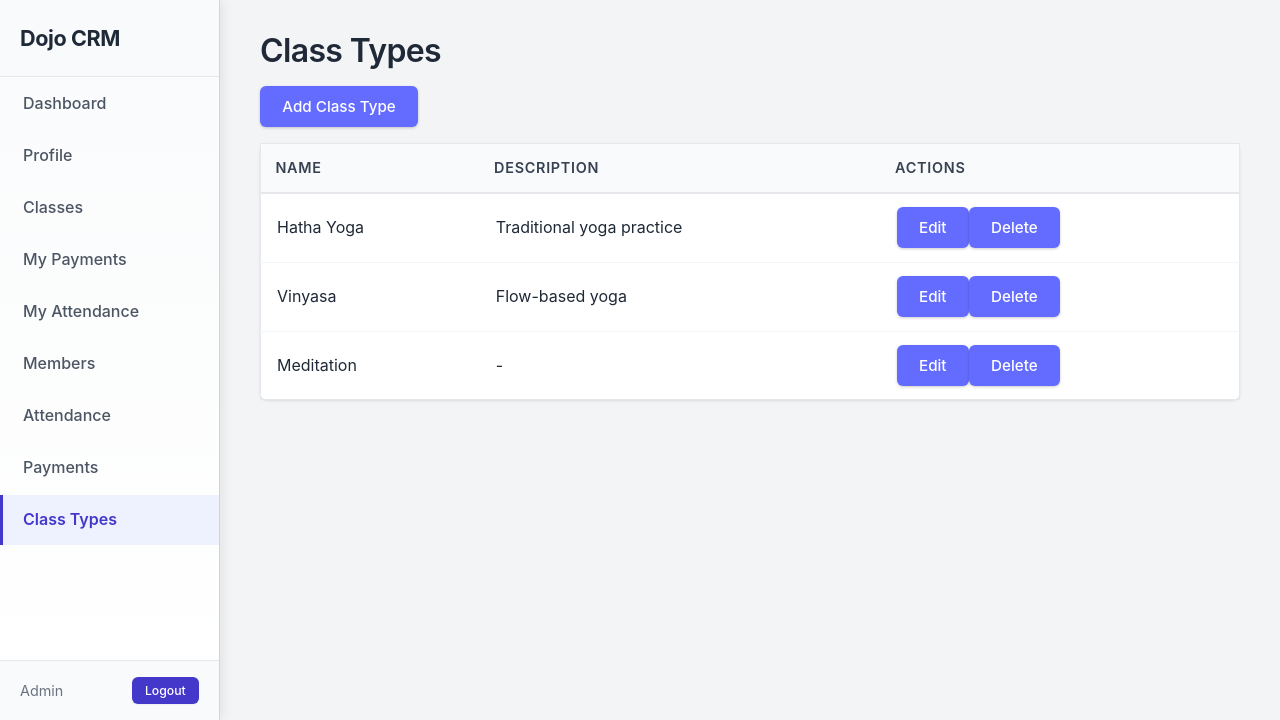
ClassTypes › creates a new class type
The image size is (1280, 720).
Check: the text "Hatha Yoga" is shown, box [260,193,480,262]
Click the button "Add Class Type": coordinates (339, 107) [260,86,418,127]
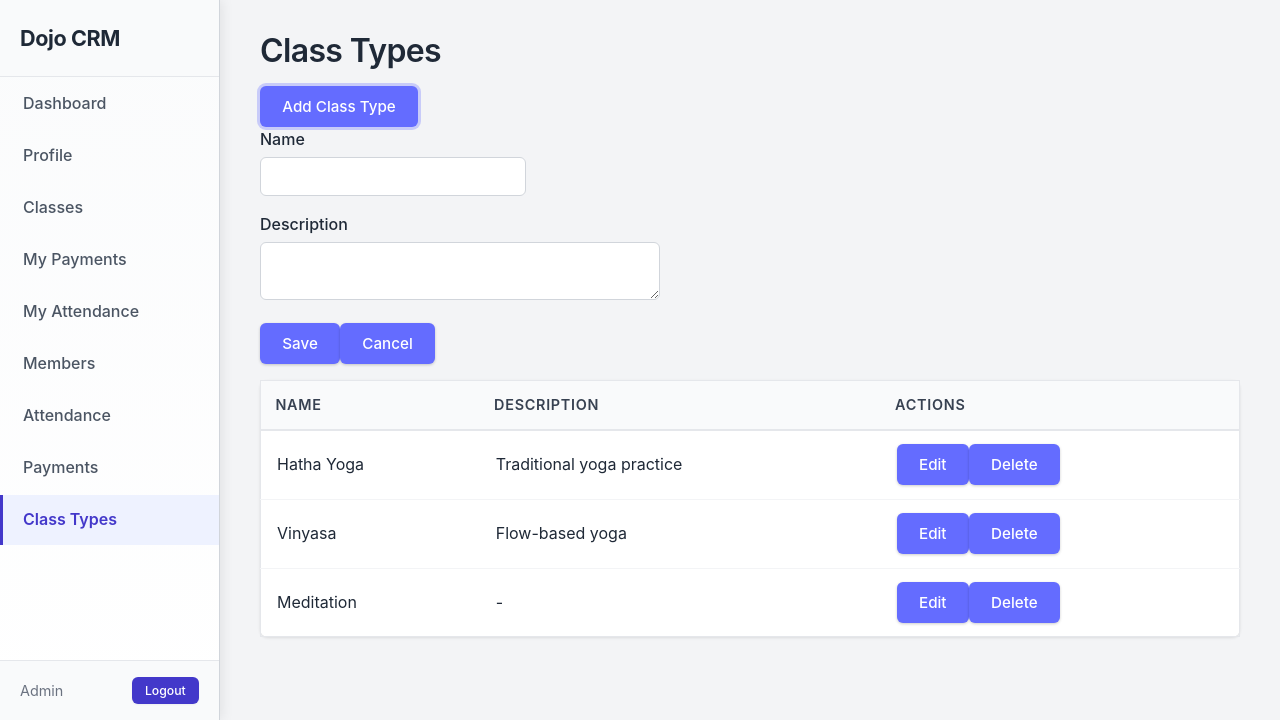
Check: the form named "Create class type" is shown, box [260,129,660,364]
In the field labelled "Name": coordinates (393, 176) [260,157,526,196], type "Yin Yoga"
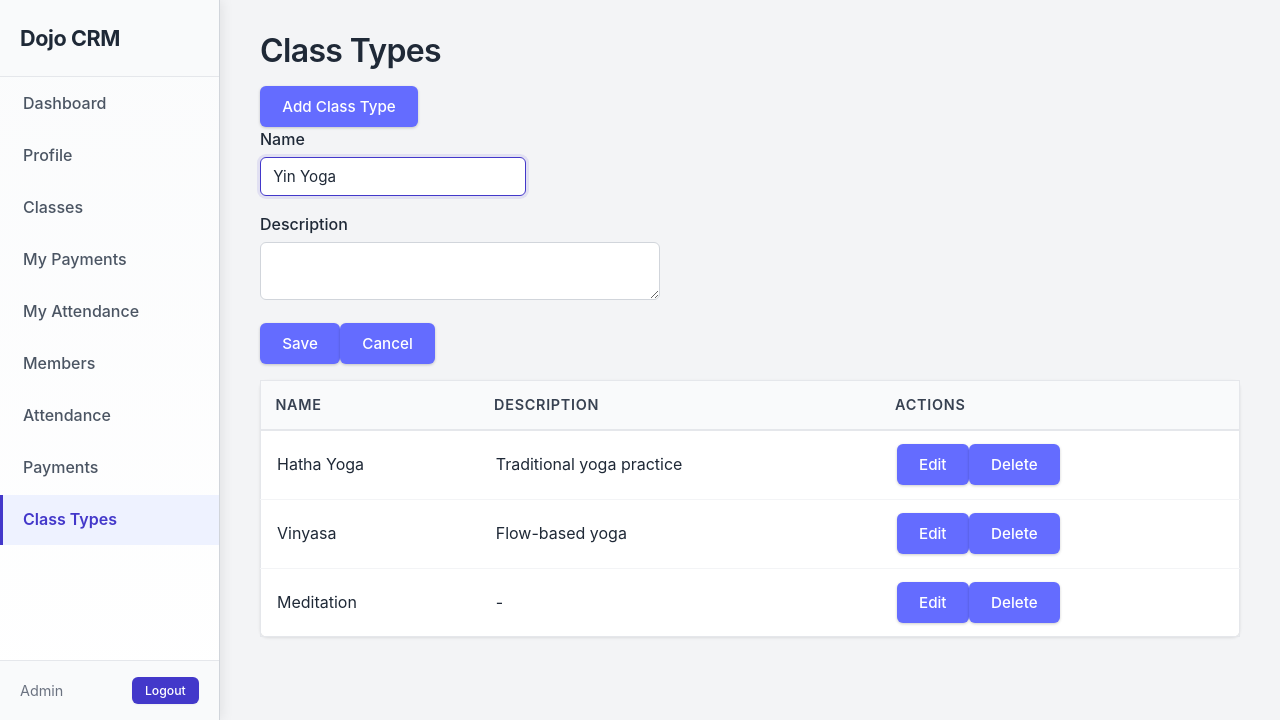
In the text box labelled "Description": coordinates (460, 271) [260,242,660,300], type "Slow-paced yoga"
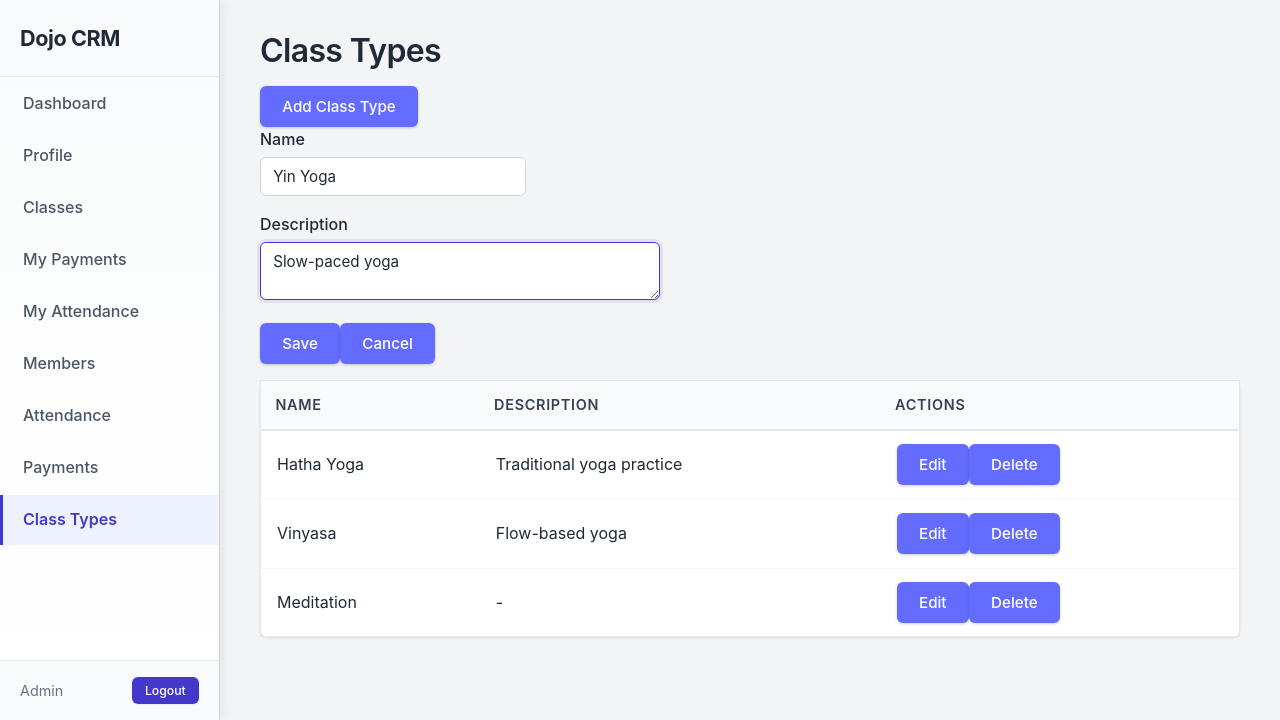
Click the button "Save": coordinates (300, 344) [260,323,340,364]
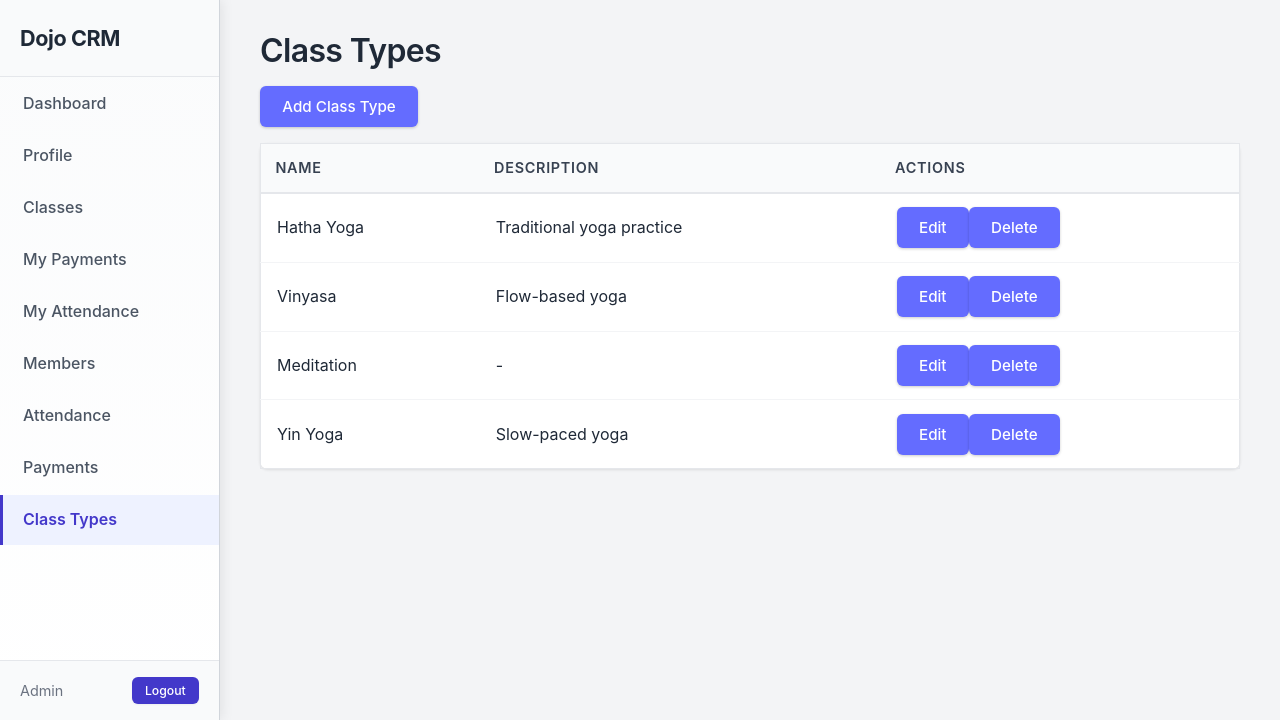
Check: the text "Yin Yoga" is shown, box [260,400,480,469]
Check: the form is gone
